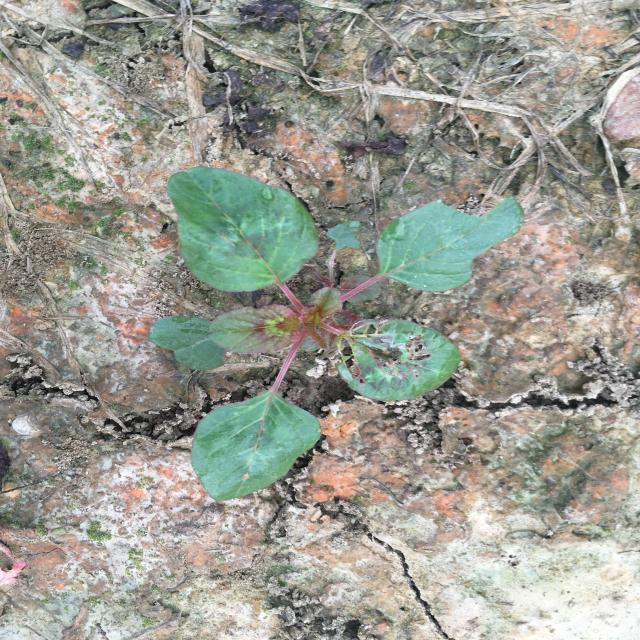PalmerAmaranth: (149, 166, 524, 502)
